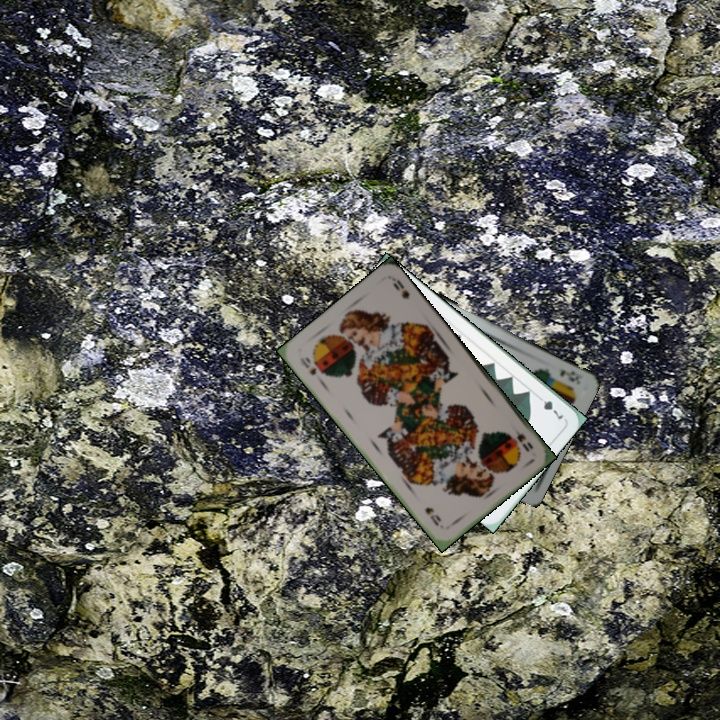EK: (556, 366, 585, 388)
G7: (532, 391, 566, 423)
SO: (507, 421, 536, 455), (296, 353, 324, 385)
